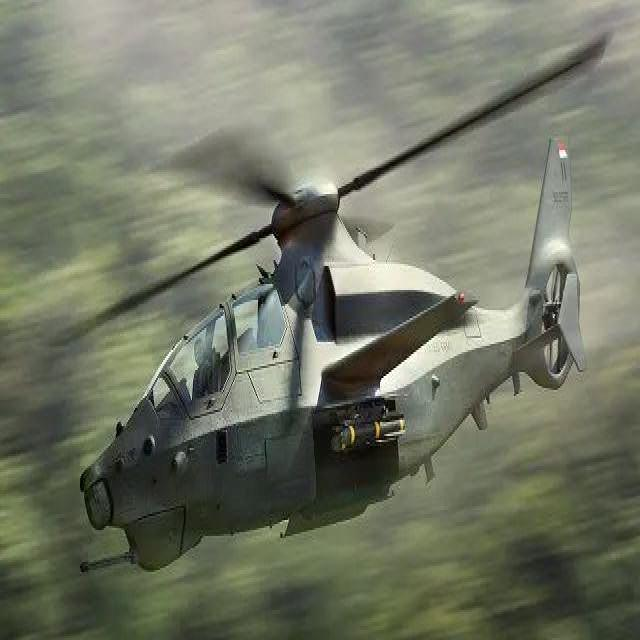MIL_HELO: (68, 37, 617, 598)
